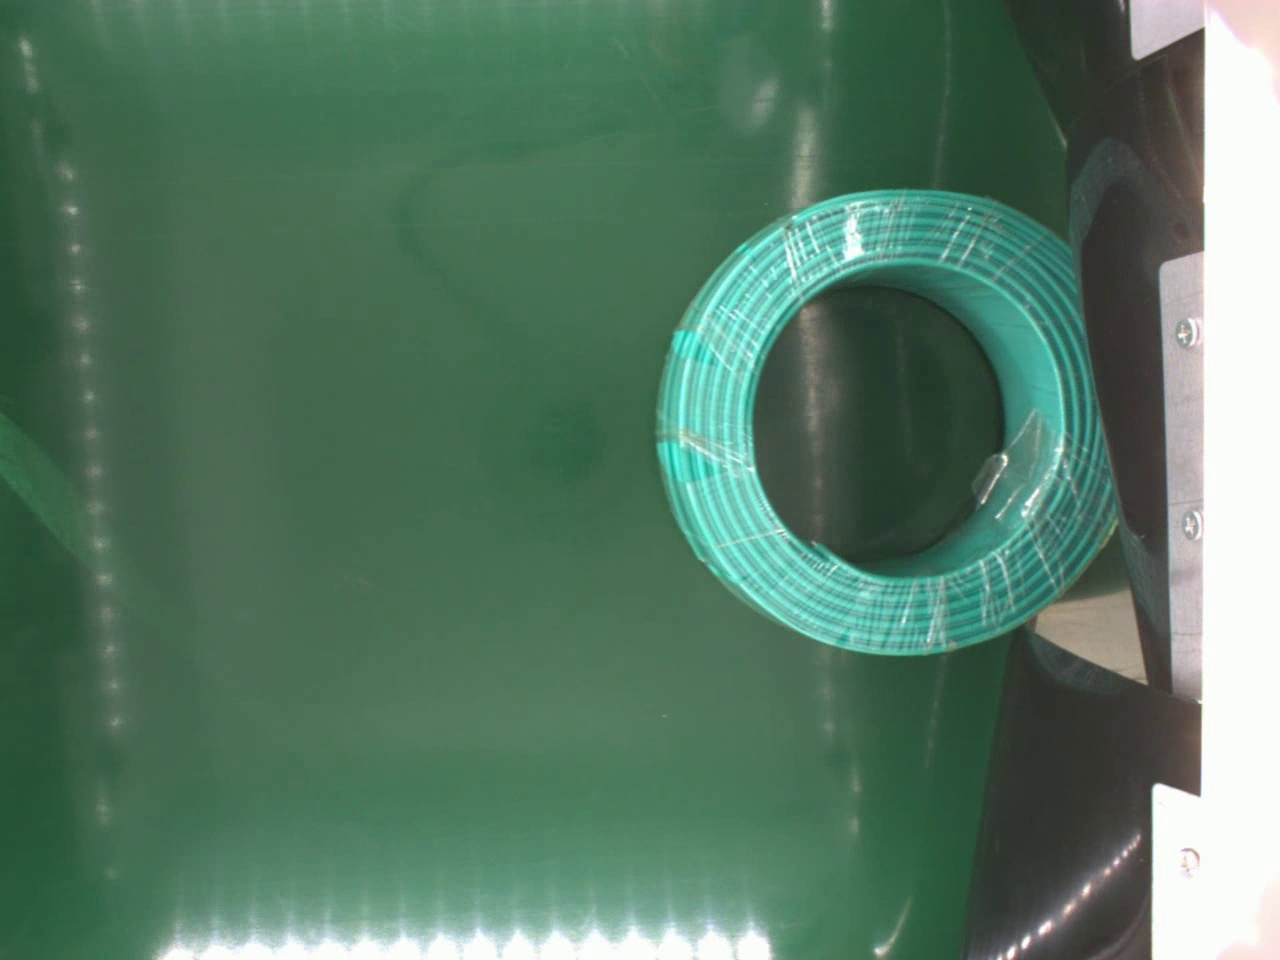green: (649, 185, 1121, 659)
